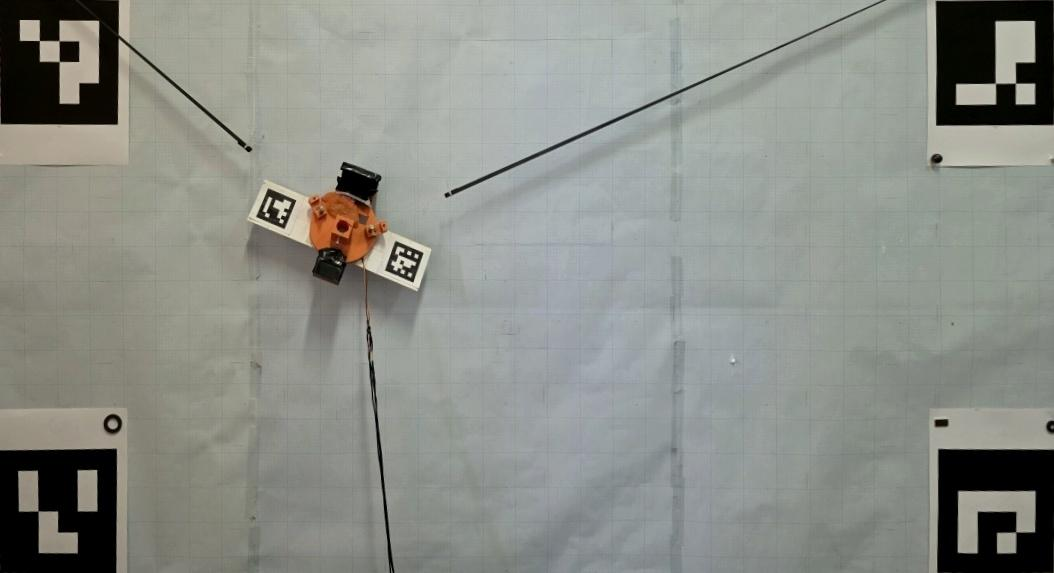robot: (307, 162, 388, 285)
